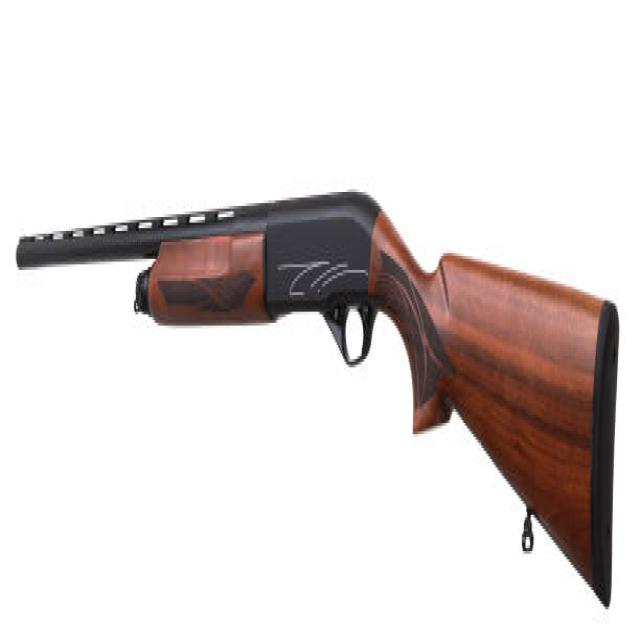rifle: (7, 182, 621, 619)
